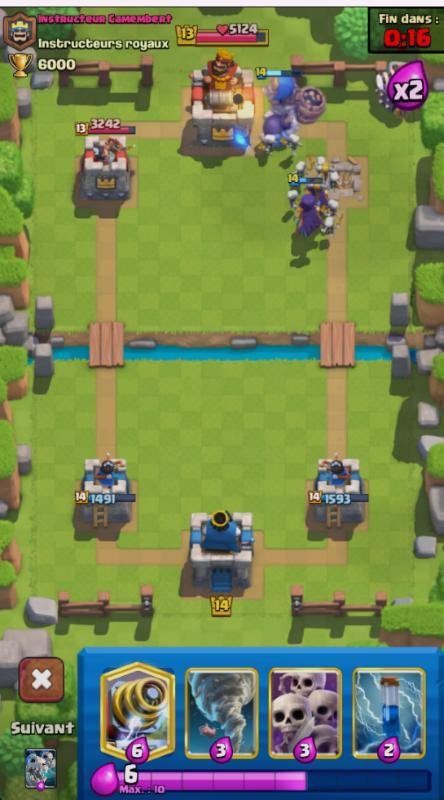player_giant_skeleton: (254, 68, 331, 152)
player_skeletons: (287, 159, 311, 184), (317, 213, 340, 239), (281, 183, 304, 208), (321, 194, 344, 218), (322, 168, 345, 192), (310, 157, 333, 179)
player_witch: (284, 182, 326, 243)
